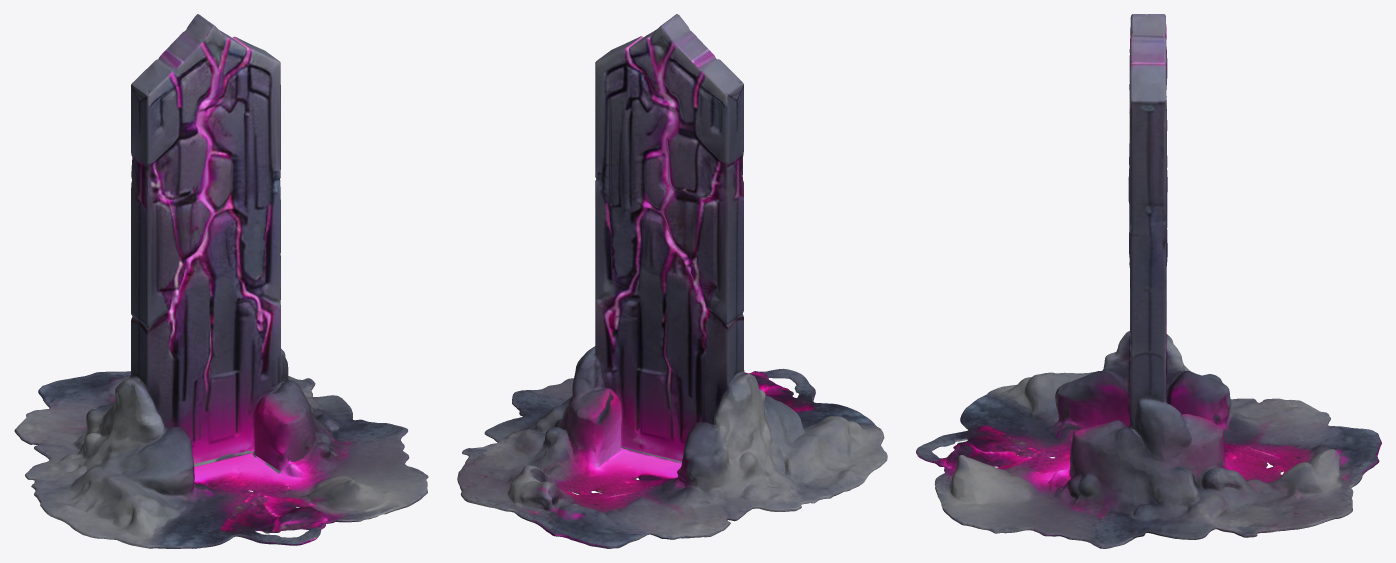
File: weathered-monolith-pillar-generated-2026-05-17T19-13-21-731Z.high.glb
3 renders of one model, left to right at view 1: azimuth 30°, elevation 25°; view 2: azimuth 150°, elevation 25°; view 3: azimuth 270°, elevation 25°, orthographic. The views are drawn at different scales.
Parts seen in each view (by area): view 1: temp_mesh.ply; view 2: temp_mesh.ply; view 3: temp_mesh.ply.
Boxes of the visible parts, box(x1,y1,x2,y2) form: temp_mesh.ply: box(14, 14, 428, 548); temp_mesh.ply: box(457, 14, 887, 548); temp_mesh.ply: box(916, 14, 1381, 548).
Bounding box in the file's own units: 1.67 × 1.96 × 1.86.
Materials: 1 (1 with a texture image).
